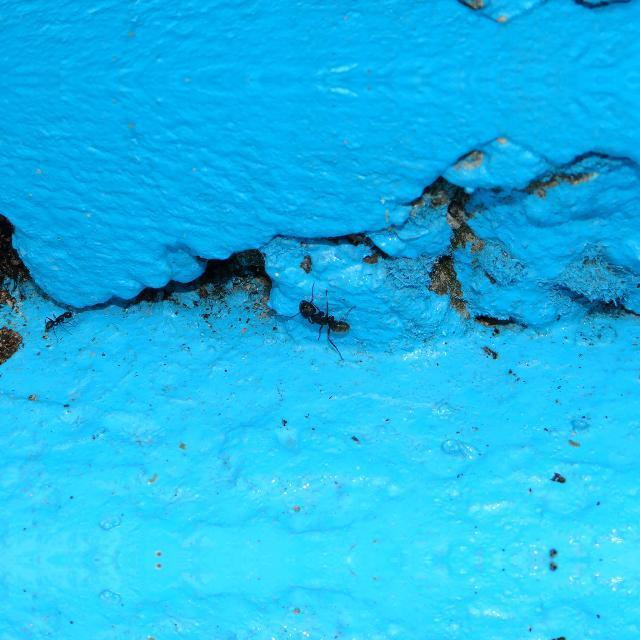Camponotus: (298, 290, 356, 342)
